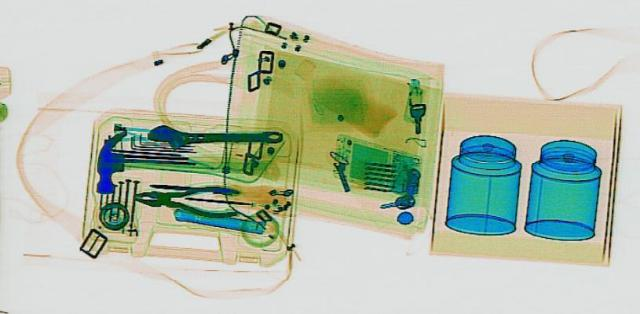Pliers: (128, 178, 245, 217)
Wrench: (146, 123, 280, 150)
